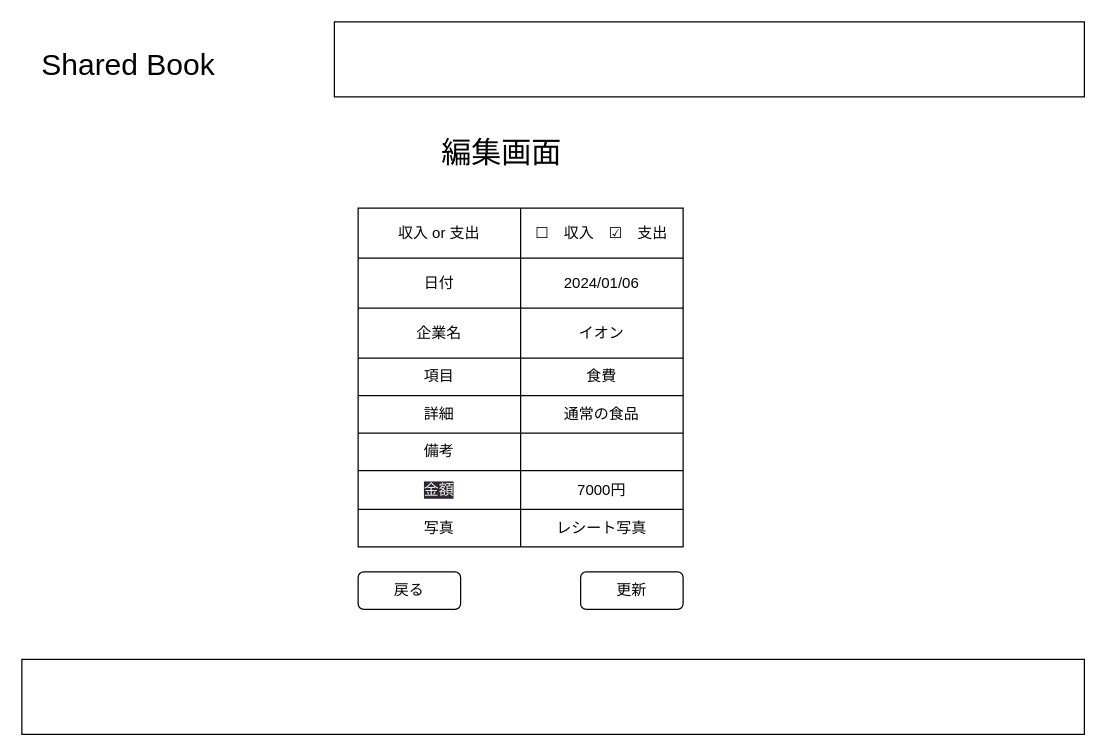
This 1106x756 diagram has some shape labels left out. The shapes that lost their labels are listed below. From the top down, each one's box as (x1, y1, x2, y2) in pixels, then its label:
(333, 21, 1084, 97): 収入支出一覧 項目一覧 カレンダー一覧 月別グラフ 割勘一覧 アカウント ログアウト
(21, 658, 1084, 734): @ 2024 Shared Book ALL RIGHTS RESERVED.
